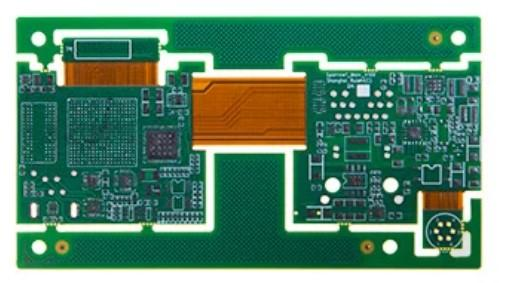Printed Circuit Board PCB: (14, 16, 487, 269)
